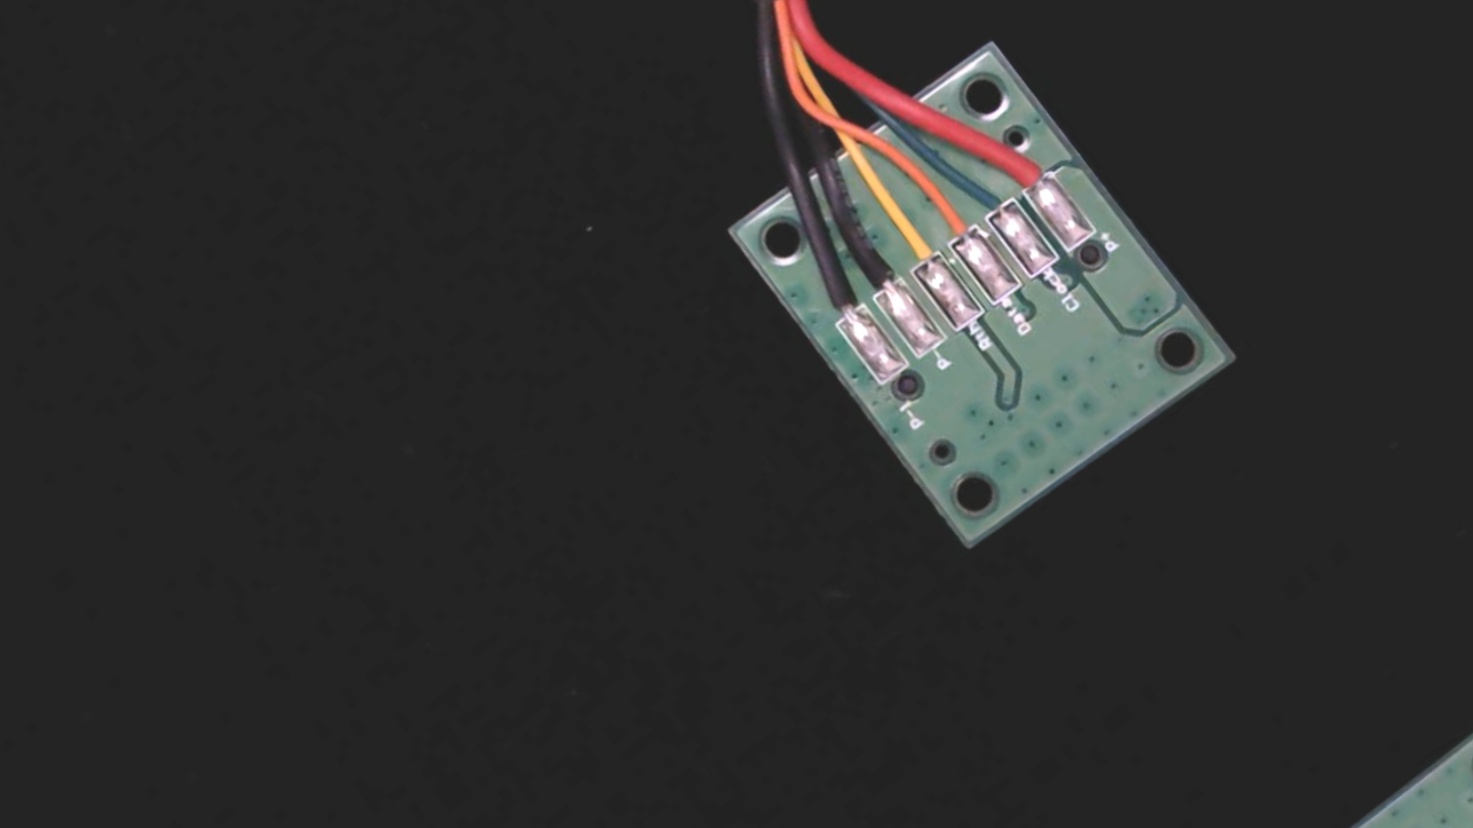Black: (835, 226, 918, 314)
Black1: (800, 261, 875, 341)
Green: (947, 148, 1032, 238)
Orange: (907, 172, 992, 263)
Red: (980, 119, 1065, 210)
Yellow: (878, 208, 955, 289)
